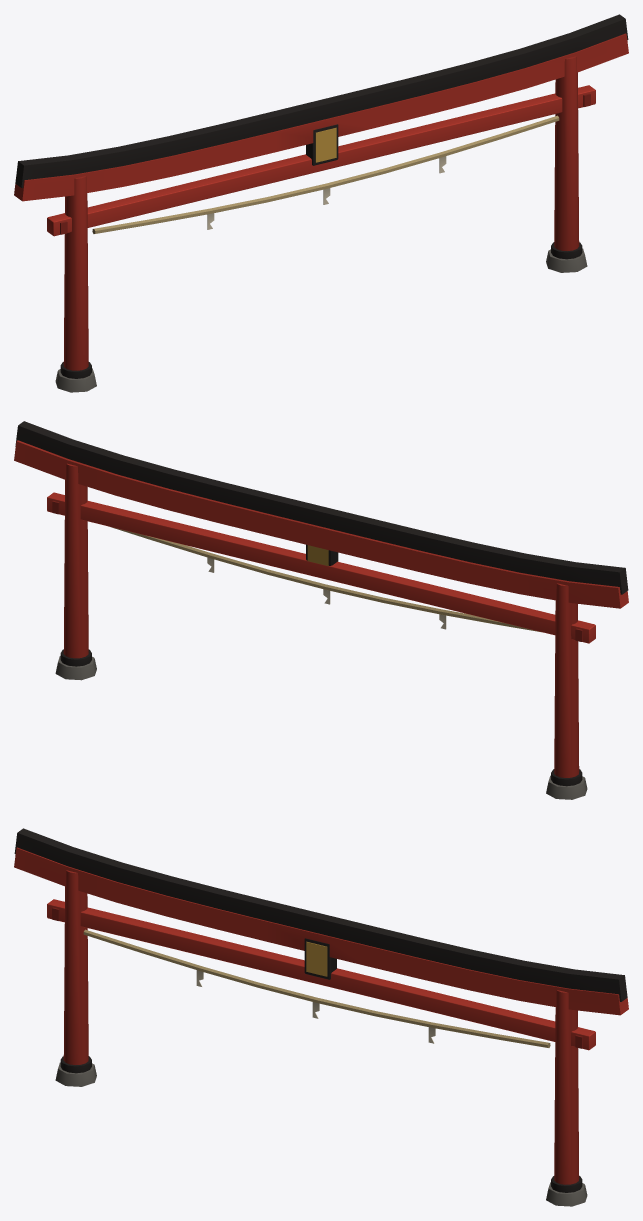
The model's file is prop.bamboo_torii.glb.
3 views of the same model, one above another, from view 1: azimuth 30°, elevation 25°; view 2: azimuth 150°, elevation 25°; view 3: azimuth 330°, elevation 25° (orthographic).
Parts seen in each view (by area): view 1: bamboo_torii; view 2: bamboo_torii; view 3: bamboo_torii.
Part boxes in pixels (x1=…): bamboo_torii: x1=14, y1=14, x2=628, y2=392; bamboo_torii: x1=14, y1=421, x2=628, y2=799; bamboo_torii: x1=14, y1=828, x2=628, y2=1206.
Size of the model in its own units: 27.72 by 10.23 by 1.7.
